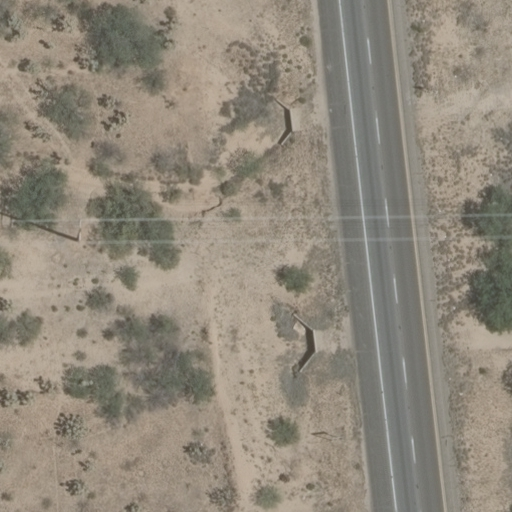DT: (74, 218, 90, 246)
